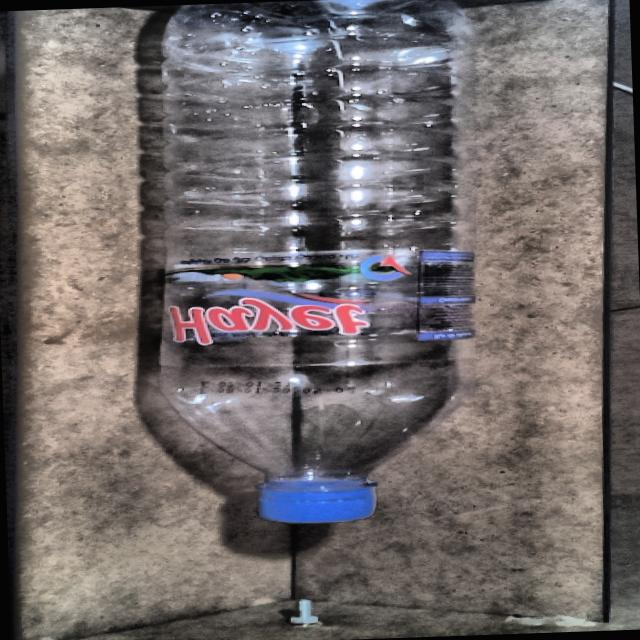plastic bottle: (160, 0, 473, 523)
